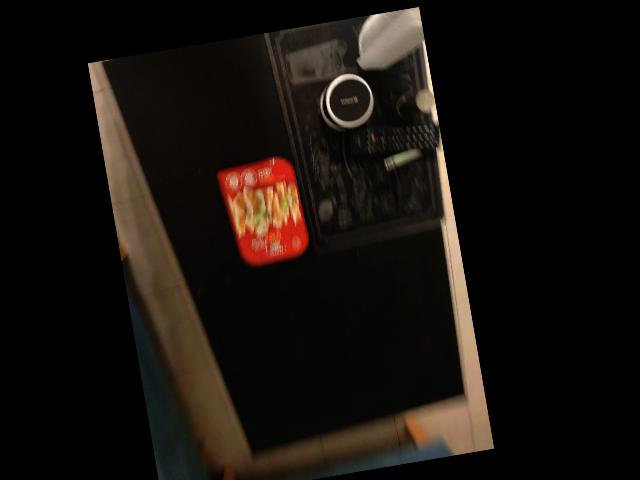cheese: (213, 155, 313, 272)
